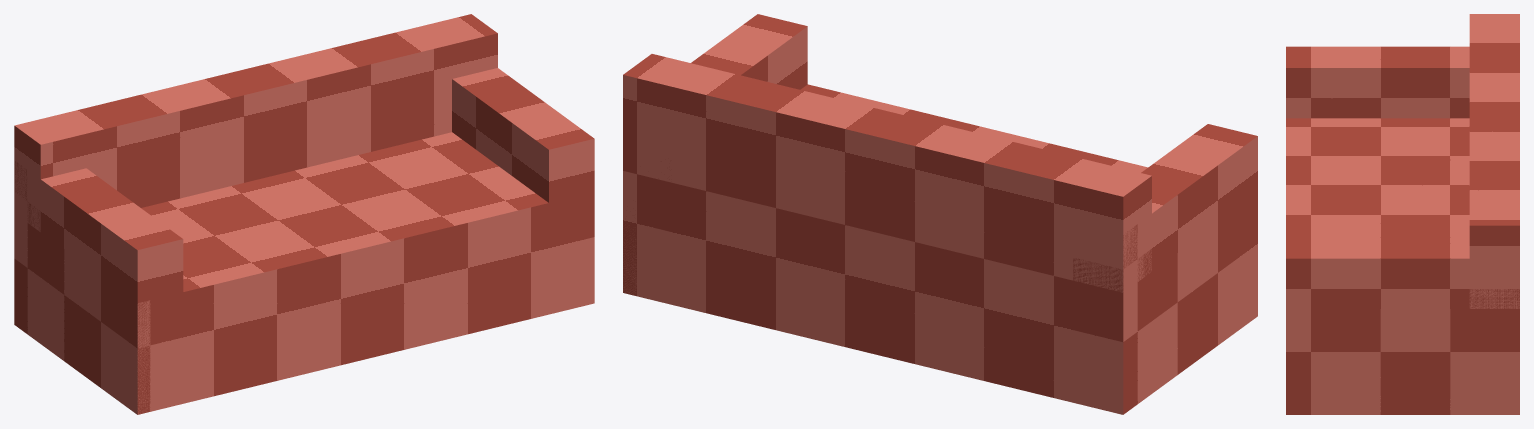
The model's file is raw_model.obj.
The picture shows the model from 3 angles, left to right: view 1: azimuth 30°, elevation 25°; view 2: azimuth 150°, elevation 25°; view 3: azimuth 270°, elevation 25°; orthographic projection. The views are drawn at different scales.
Visible parts, largest first — view 1: sofa; view 2: sofa; view 3: sofa.
Boxes of the visible parts, x1,y1,x2,y2 form: sofa: (14, 14, 594, 414); sofa: (623, 14, 1257, 414); sofa: (1286, 14, 1519, 414).
Size of the model in its own units: 1.8 by 0.75 by 0.84.
1 material, 1 textured.
